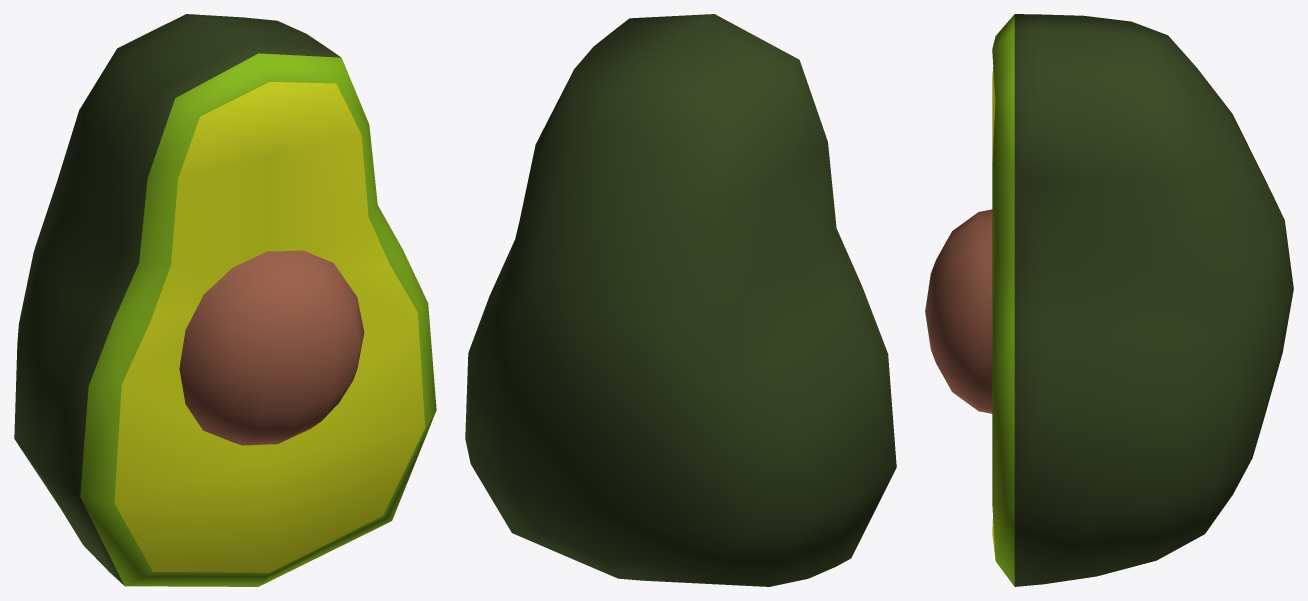
File: quaternius-sushi-restaurant-foodingredient-avocado.glb
3 views of the same model, side by side, from view 1: azimuth 30°, elevation 25°; view 2: azimuth 150°, elevation 25°; view 3: azimuth 270°, elevation 25° (orthographic). The views are drawn at different scales.
Parts seen in each view (by area): view 1: FoodIngredient_Avocado; view 2: FoodIngredient_Avocado; view 3: FoodIngredient_Avocado.
Boxes of the visible parts, x1,y1,x2,y2 form: FoodIngredient_Avocado: (14,14,436,586); FoodIngredient_Avocado: (465,14,896,586); FoodIngredient_Avocado: (925,14,1293,586).
Bounding box in the file's own units: 0.4637 × 0.6633 × 0.4217.
1 material, 1 textured.
